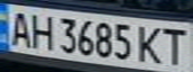3: (54, 15, 78, 54)
5: (112, 20, 136, 61)
6: (75, 17, 96, 56)
8: (93, 19, 115, 60)
A: (3, 8, 36, 47)
H: (24, 10, 57, 51)
K: (136, 22, 166, 65)
T: (157, 25, 190, 66)
